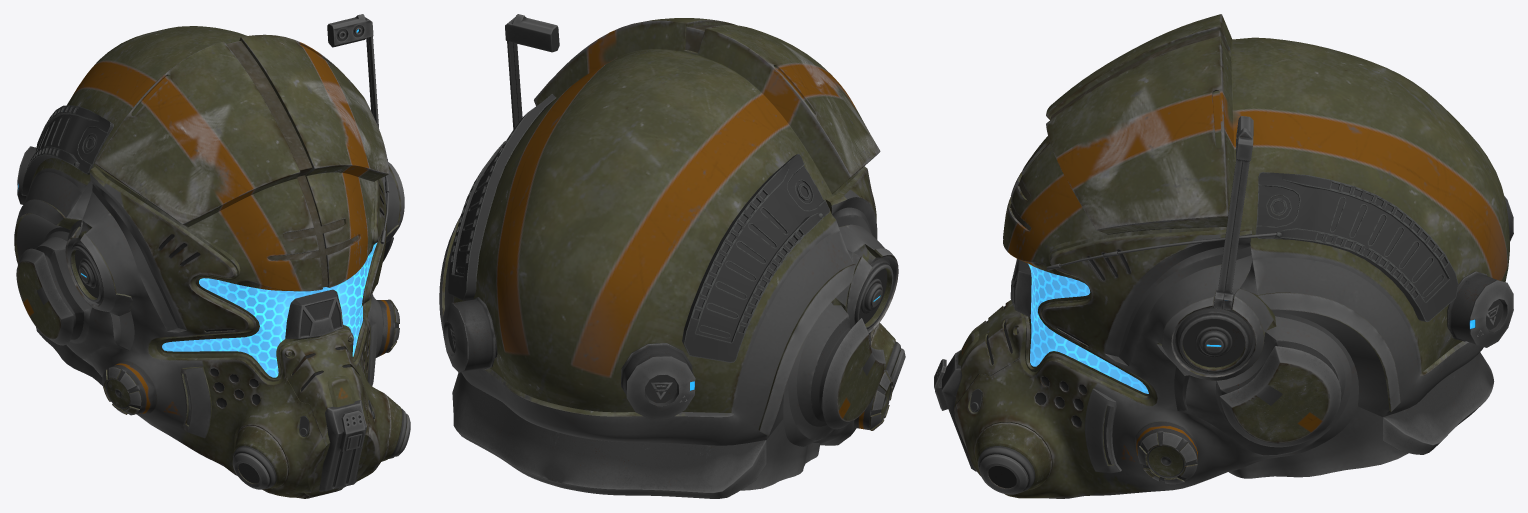
The model's file is jack_coopers_helmet__titanfall_2.glb.
3 views of the same model, side by side, from view 1: azimuth 30°, elevation 25°; view 2: azimuth 150°, elevation 25°; view 3: azimuth 270°, elevation 25° (orthographic). The views are drawn at different scales.
Parts seen in each view (by area): view 1: Helmet, Visor, Plane.001, Railing, respirator, Cylinder.001, mask part.001, visor part, Cylinder, Helmet.006, mask part, Helmet.004 (+1 smaller); view 2: Helmet, Railing, Helmet.001, Back cylinder, Plane.001, Cylinder, Helmet.006, Cylinder.001, respirator, Helmet.004; view 3: Helmet, Railing, Plane.001, Helmet.001, respirator, Back cylinder, Cylinder, Visor, Cylinder.001, Helmet.004, visor part, mask part.001 (+2 smaller).
Part boxes in pixels (bbox=[...]): Helmet: bbox=[14, 26, 404, 498]; Visor: bbox=[162, 242, 377, 377]; Plane.001: bbox=[16, 237, 393, 345]; Railing: bbox=[21, 105, 113, 196]; respirator: bbox=[232, 394, 410, 489]; Cylinder.001: bbox=[102, 299, 399, 415]; mask part.001: bbox=[319, 400, 366, 491]; visor part: bbox=[285, 289, 343, 338]; Cylinder: bbox=[70, 241, 103, 303]; Helmet.006: bbox=[327, 14, 373, 47]; mask part: bbox=[339, 410, 365, 451]; Helmet.004: bbox=[366, 36, 387, 160]; Helmet: bbox=[439, 18, 898, 490]; Railing: bbox=[448, 94, 829, 362]; Helmet.001: bbox=[452, 372, 766, 498]; Back cylinder: bbox=[443, 297, 695, 419]; Plane.001: bbox=[811, 315, 885, 429]; Cylinder: bbox=[854, 258, 893, 329]; Helmet.006: bbox=[505, 14, 559, 52]; Cylinder.001: bbox=[854, 370, 892, 430]; respirator: bbox=[871, 323, 905, 391]; Helmet.004: bbox=[507, 41, 522, 129]; Helmet: bbox=[953, 14, 1509, 498]; Railing: bbox=[1255, 172, 1458, 321]; Plane.001: bbox=[1219, 340, 1341, 447]; Helmet.001: bbox=[1383, 352, 1494, 454]; respirator: bbox=[975, 422, 1051, 494]; Back cylinder: bbox=[1447, 196, 1513, 347]; Cylinder: bbox=[1175, 308, 1252, 372]; Visor: bbox=[1028, 263, 1148, 393]; Cylinder.001: bbox=[1134, 421, 1198, 484]; Helmet.004: bbox=[1213, 159, 1249, 310]; visor part: bbox=[1010, 259, 1031, 317]; mask part.001: bbox=[941, 350, 976, 471].
Size of the model in its own units: 3.36 by 3.63 by 4.21.
Materials: 4 (4 with a texture image).
